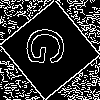G: (25, 25, 75, 69)
